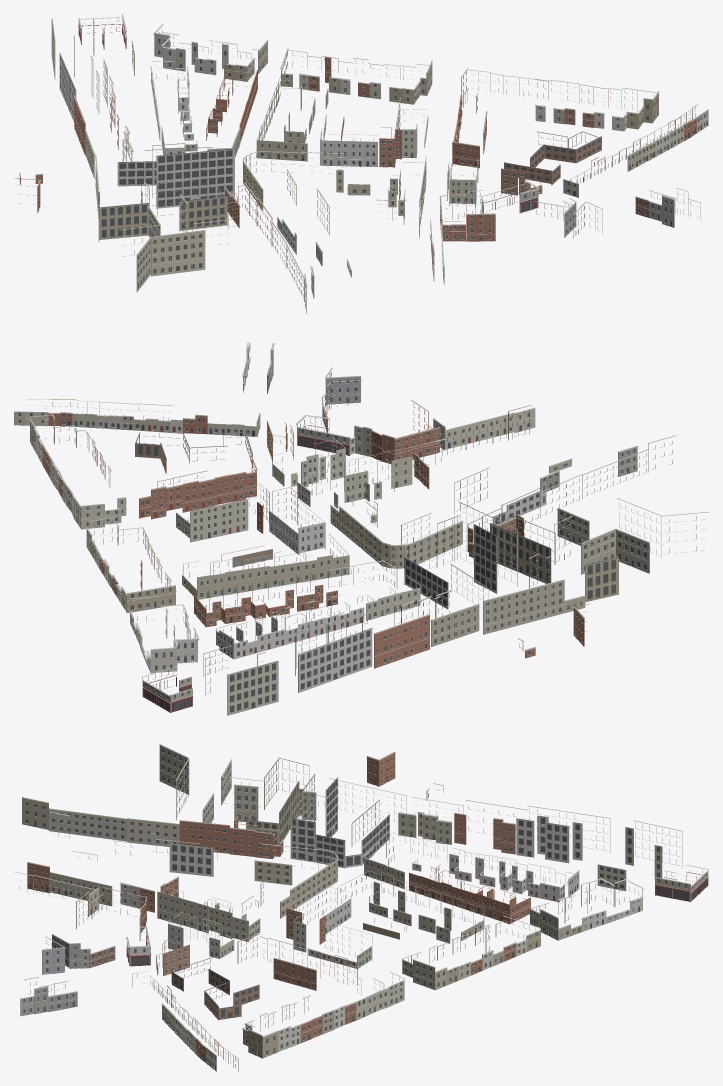
The picture shows the model from 3 angles, top to bottom: view 1: azimuth 30°, elevation 25°; view 2: azimuth 150°, elevation 25°; view 3: azimuth 270°, elevation 25°; orthographic projection. The views are drawn at different scales.
Visible parts, largest first — view 1: f:way/151527567, f:way/698217901, f:way/500913818, f:way/172404658, f:way/172410439, f:way/172405864, f:way/27539153, f:way/172407011, f:way/172404659, f:way/172403414, f:way/172405859, f:way/165739070 (+14 smaller); view 2: f:way/151527567, f:way/172404658, f:way/698217901, f:way/27539153, f:way/172403414, f:way/172407011, f:way/1019985983, f:way/172405859, f:way/172404659, f:way/500913818, f:way/172407010, f:way/165739069 (+18 smaller); view 3: f:way/151527567, f:way/165739069, f:way/172404659, f:way/172407011, f:way/172405859, f:way/1229099909, f:way/27539153, f:way/172404658, f:way/500913818, f:relation/18226032, f:way/698217901, f:way/172407010 (+25 smaller).
Part boxes in pixels (box(x1,y1,x2,y2)): f:way/151527567: box(117, 143, 234, 208); f:way/698217901: box(98, 176, 227, 241); f:way/500913818: box(119, 219, 232, 291); f:way/172404658: box(256, 76, 328, 161); f:way/172410439: box(504, 131, 601, 185); f:way/172405864: box(319, 128, 378, 166); f:way/27539153: box(242, 151, 370, 210); f:way/172407011: box(59, 53, 113, 121); f:way/172404659: box(206, 70, 257, 142); f:way/172403414: box(452, 95, 487, 168); f:way/172405859: box(150, 61, 193, 140); f:way/165739070: box(447, 159, 478, 206); f:way/151527567: box(404, 502, 517, 609); f:way/172404658: box(182, 533, 349, 599); f:way/698217901: box(489, 517, 618, 602); f:way/27539153: box(330, 501, 462, 568); f:way/172403414: box(139, 456, 257, 519); f:way/172407011: box(295, 612, 372, 692); f:way/1019985983: box(483, 553, 585, 634); f:way/172405859: box(215, 594, 364, 659); f:way/172404659: box(194, 571, 337, 627); f:way/500913818: box(557, 498, 708, 573); f:way/172407010: box(203, 645, 278, 715); f:way/165739069: box(297, 448, 412, 508); f:way/151527567: box(290, 774, 389, 868); f:way/165739069: box(157, 887, 260, 941); f:way/172404659: box(409, 866, 530, 924); f:way/172407011: box(516, 805, 610, 863); f:way/172405859: box(436, 847, 579, 902); f:way/1229099909: box(22, 797, 126, 841); f:way/27539153: box(241, 843, 338, 918); f:way/172404658: box(337, 870, 484, 943); f:way/500913818: box(159, 744, 231, 823); f:relation/18226032: box(42, 934, 115, 974); f:way/698217901: box(246, 757, 309, 845); f:way/172407010: box(597, 820, 682, 891).
Size of the model in its own units: 253 by 24.06 by 255.
